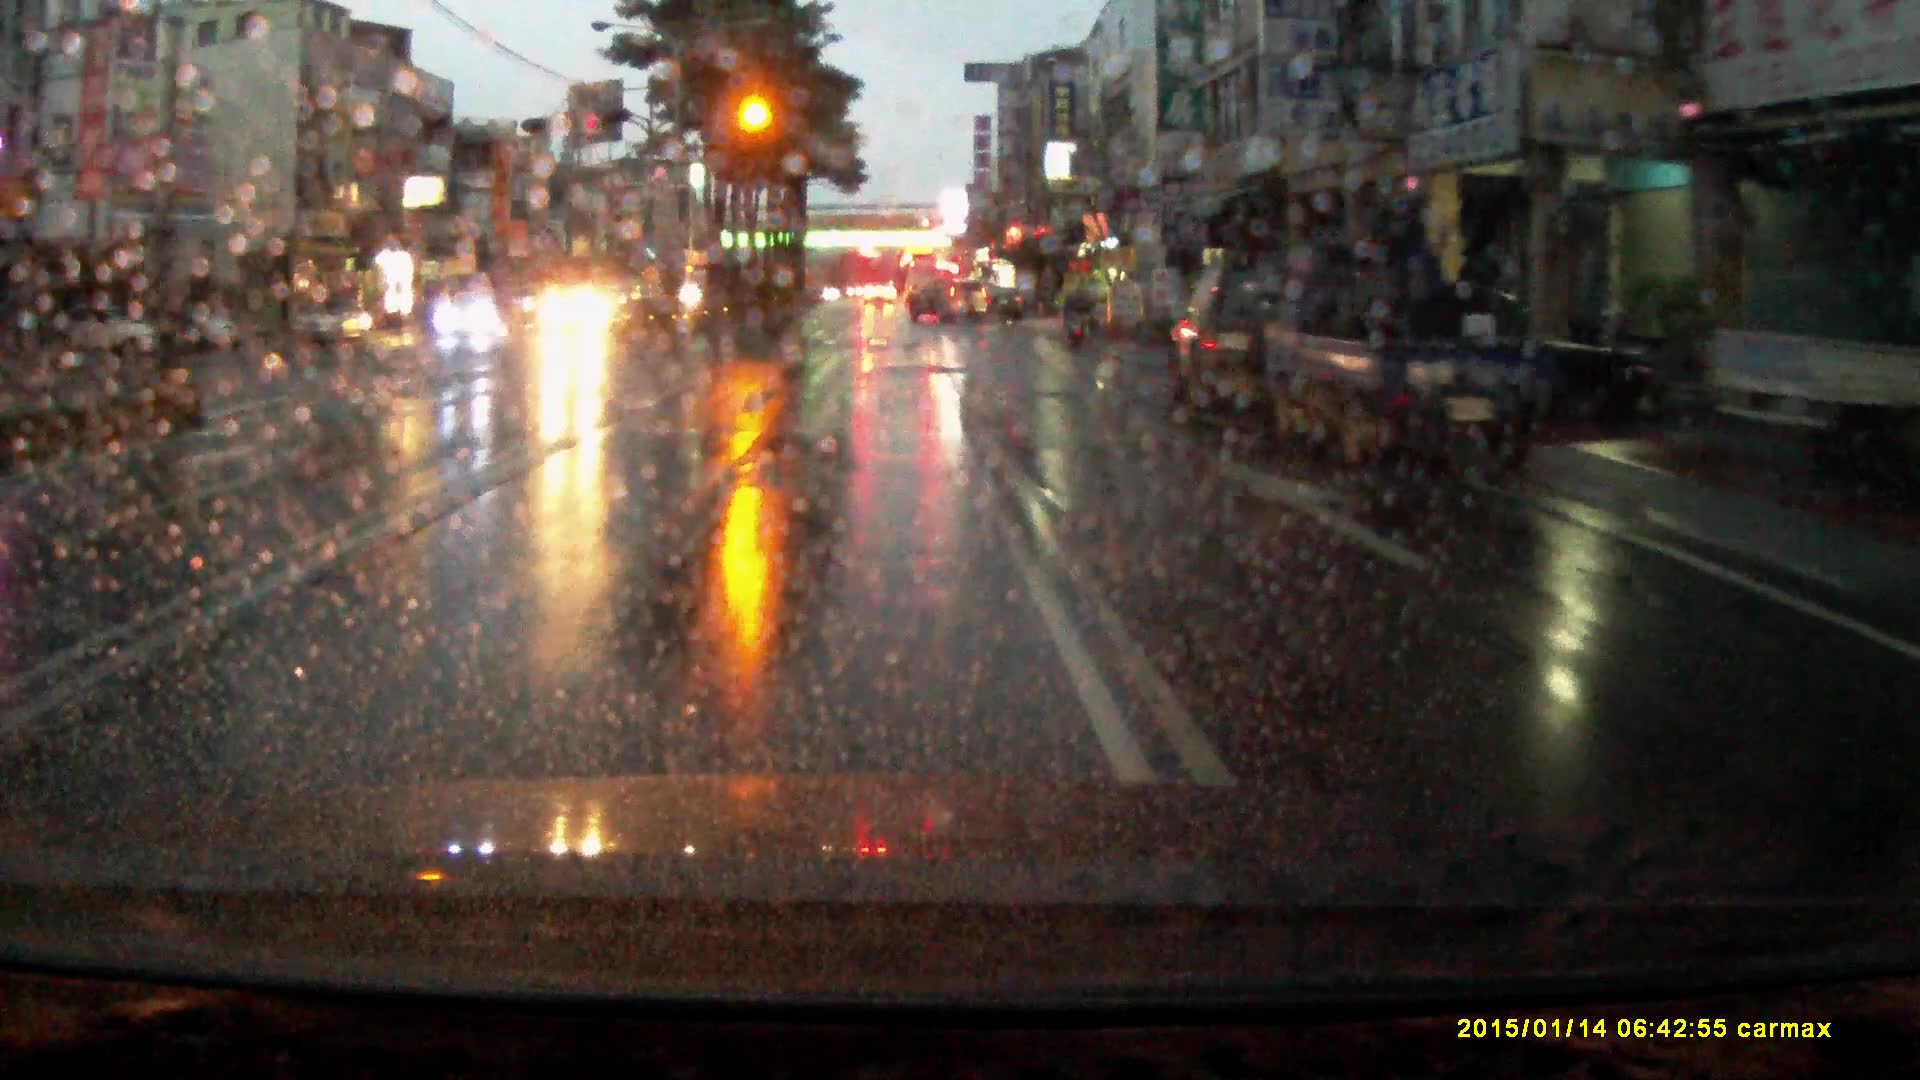vehicle: (1274, 239, 1563, 477), (1706, 309, 1920, 492), (1174, 261, 1279, 433), (51, 307, 160, 363), (538, 287, 617, 351), (295, 299, 377, 353), (910, 277, 988, 324), (436, 295, 504, 343), (179, 305, 239, 356), (905, 258, 943, 306), (985, 287, 1023, 324), (864, 280, 899, 309)
